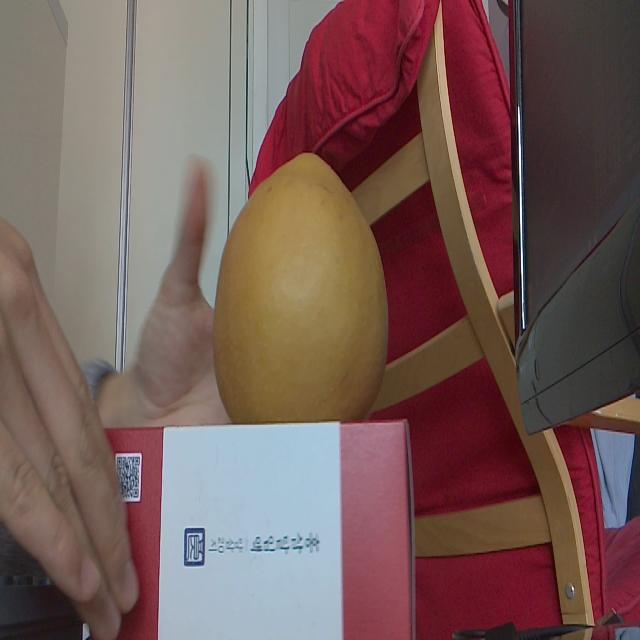pear: (214, 148, 395, 424)
